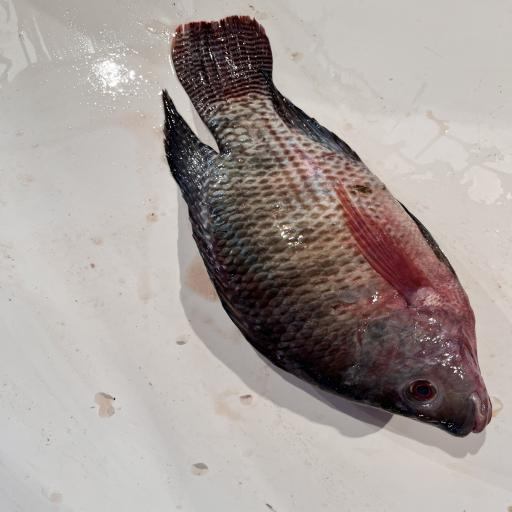Tilapia: (162, 15, 493, 437)
